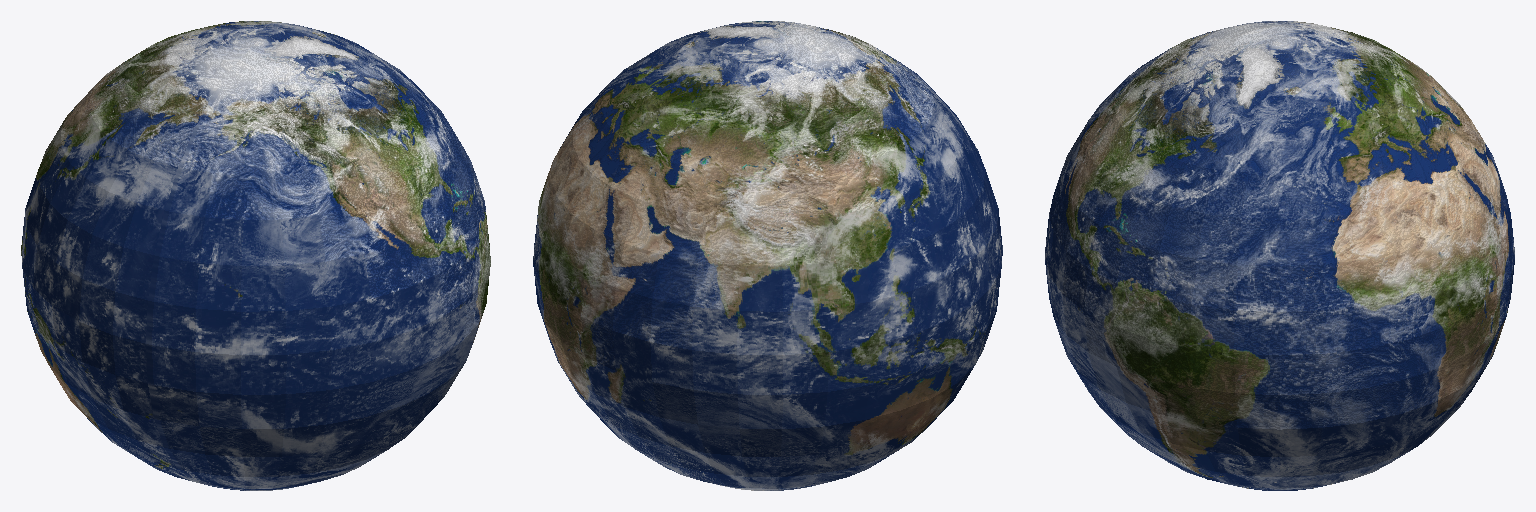
The picture shows the model from 3 angles: view 1: azimuth 30°, elevation 25°; view 2: azimuth 150°, elevation 25°; view 3: azimuth 270°, elevation 25°; orthographic projection.
Visible parts, largest first — view 1: Sphere; view 2: Sphere; view 3: Sphere.
Part boxes in pixels (x1,y1,x2,y2): Sphere: (21, 21, 490, 490); Sphere: (533, 21, 1002, 490); Sphere: (1045, 21, 1514, 490).
Size of the model in its own units: 2 by 2 by 2.
Materials: 1 (1 with a texture image).